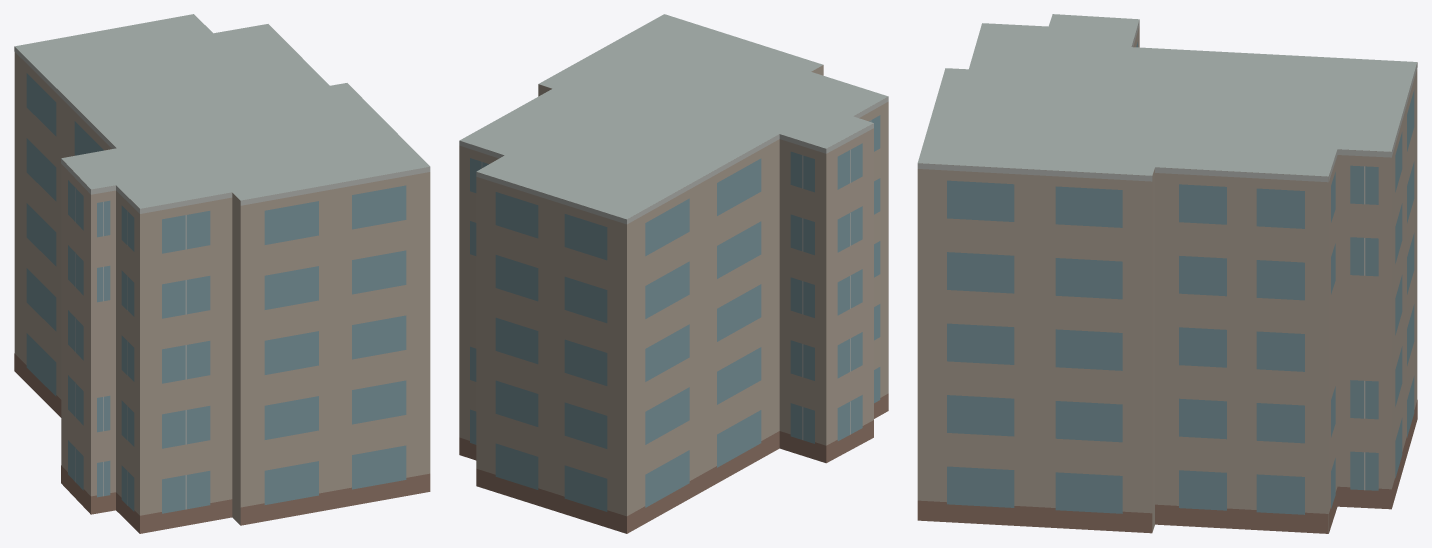
The model's file is survey-upis-32769456.glb.
3 renders of one model, left to right at view 1: azimuth 30°, elevation 25°; view 2: azimuth 150°, elevation 25°; view 3: azimuth 270°, elevation 25°, orthographic. The views are drawn at different scales.
Parts seen in each view (by area): view 1: survey-upis-32769456.tmp; view 2: survey-upis-32769456.tmp; view 3: survey-upis-32769456.tmp.
Boxes of the visible parts, x1=… form: survey-upis-32769456.tmp: x1=14, y1=14, x2=430, y2=533; survey-upis-32769456.tmp: x1=459, y1=14, x2=888, y2=533; survey-upis-32769456.tmp: x1=917, y1=14, x2=1417, y2=533.
Size of the model in its own units: 14.88 by 15.25 by 19.34.
